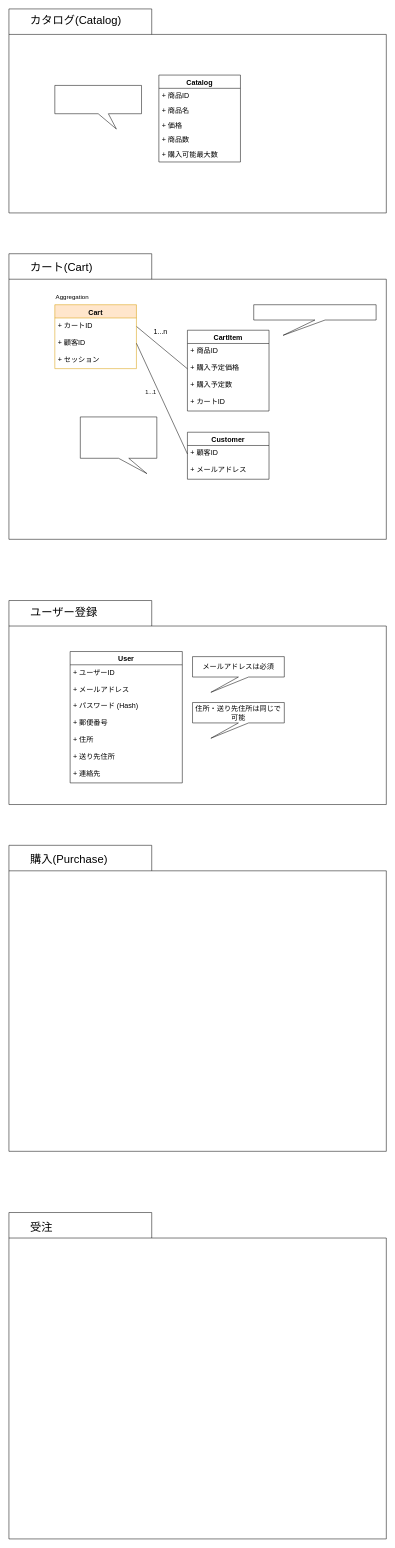
Image size: 395x1548. Some labels were removed from this diagram. Here are the shapes that lost their labels. From the top down, the centre of each, then its label:
the point at 98,107: 商品数は購入可能限度数もしくは在庫数
the point at 314,319: 1カートに入れられるのは10品目まで
the point at 118,445: 不特定ユーザーは 顧客IDは一時付与 メールアドレスなし
